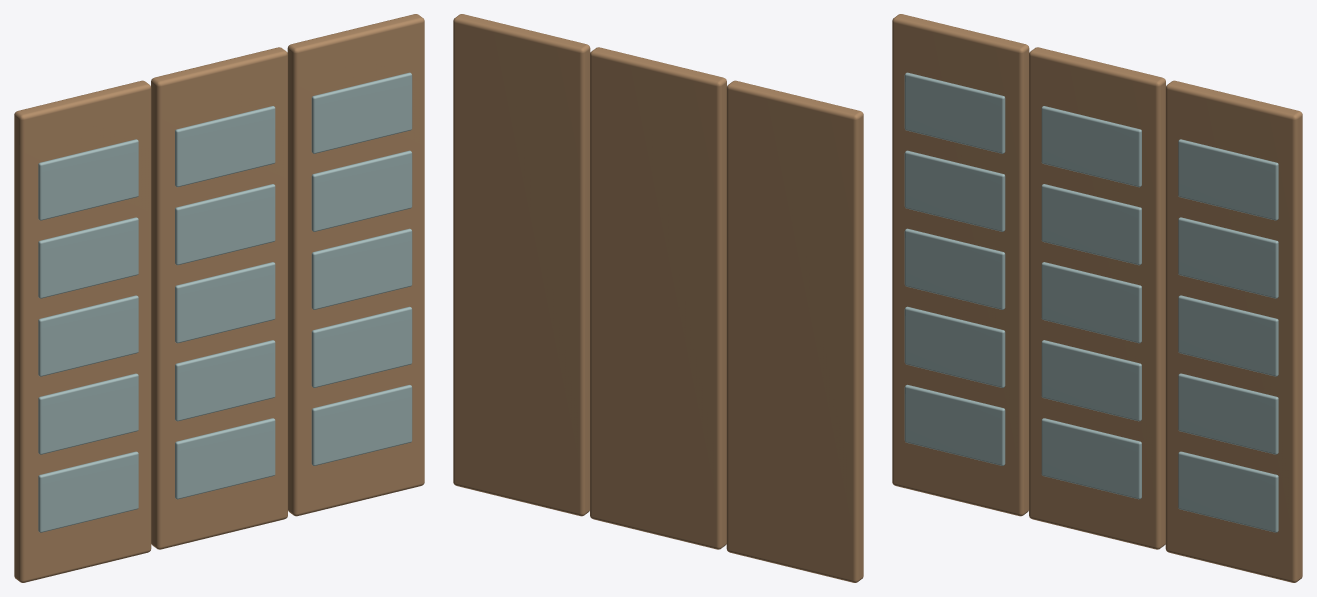
File: atelier-room-divider.glb
3 renders of one model, left to right at view 1: azimuth 30°, elevation 25°; view 2: azimuth 150°, elevation 25°; view 3: azimuth 330°, elevation 25°, orthographic.
Visible parts, largest first — view 1: legs.221, fabric.102; view 2: legs.221; view 3: legs.221, fabric.102.
Part boxes in pixels (bbox=[...]): legs.221: bbox=[14, 14, 424, 582]; fabric.102: bbox=[38, 72, 412, 532]; legs.221: bbox=[453, 14, 863, 582]; legs.221: bbox=[892, 14, 1302, 582]; fabric.102: bbox=[904, 72, 1278, 532].
Bounding box in the file's own units: 1.63 × 1.8 × 0.079.
